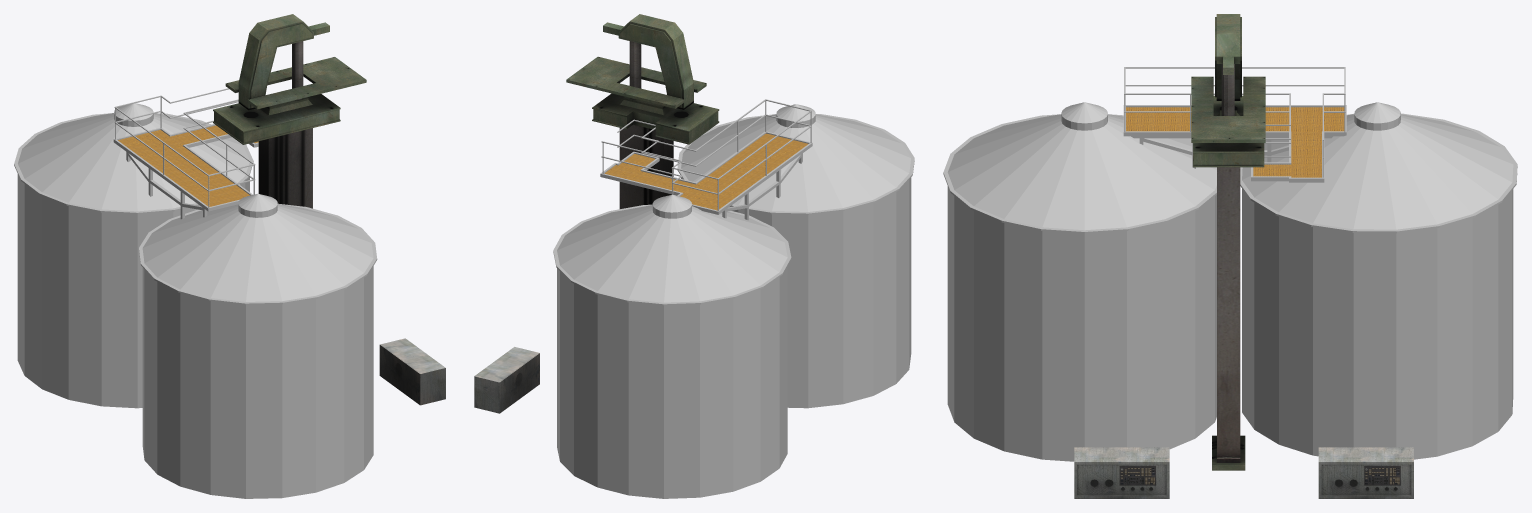
Rendered from Environmet_8_LOD01.fbx.
The picture shows the model from 3 angles, left to right: view 1: azimuth 30°, elevation 25°; view 2: azimuth 150°, elevation 25°; view 3: azimuth 270°, elevation 25°; orthographic projection. The views are drawn at different scales.
Visible parts, largest first — view 1: Environmet_8_LOD01; view 2: Environmet_8_LOD01; view 3: Environmet_8_LOD01.
Boxes of the visible parts, <box> form: Environmet_8_LOD01: <box>14,14,445,498</box>; Environmet_8_LOD01: <box>474,14,914,498</box>; Environmet_8_LOD01: <box>943,14,1517,498</box>.
Size of the model in its own units: 7.22 by 8.73 by 10.6.
